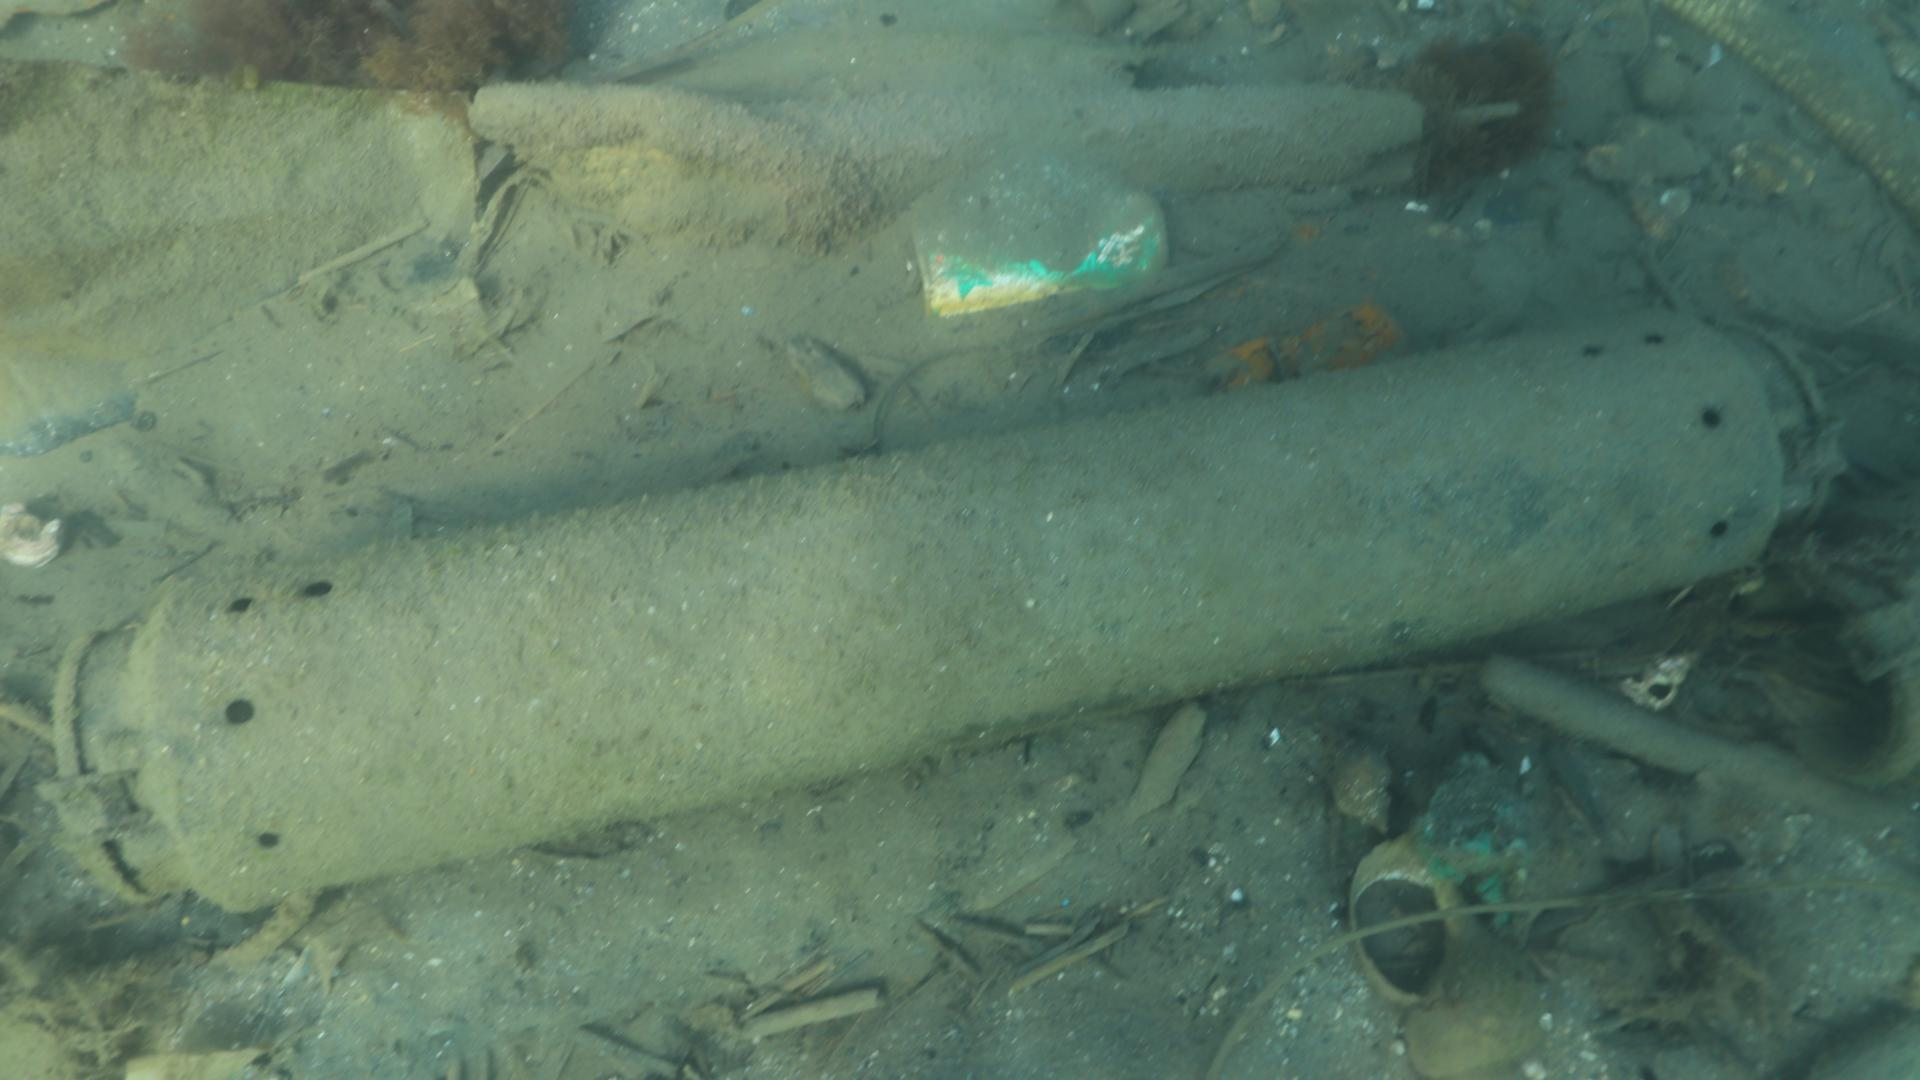eel fish trap: (38, 310, 1822, 914)
